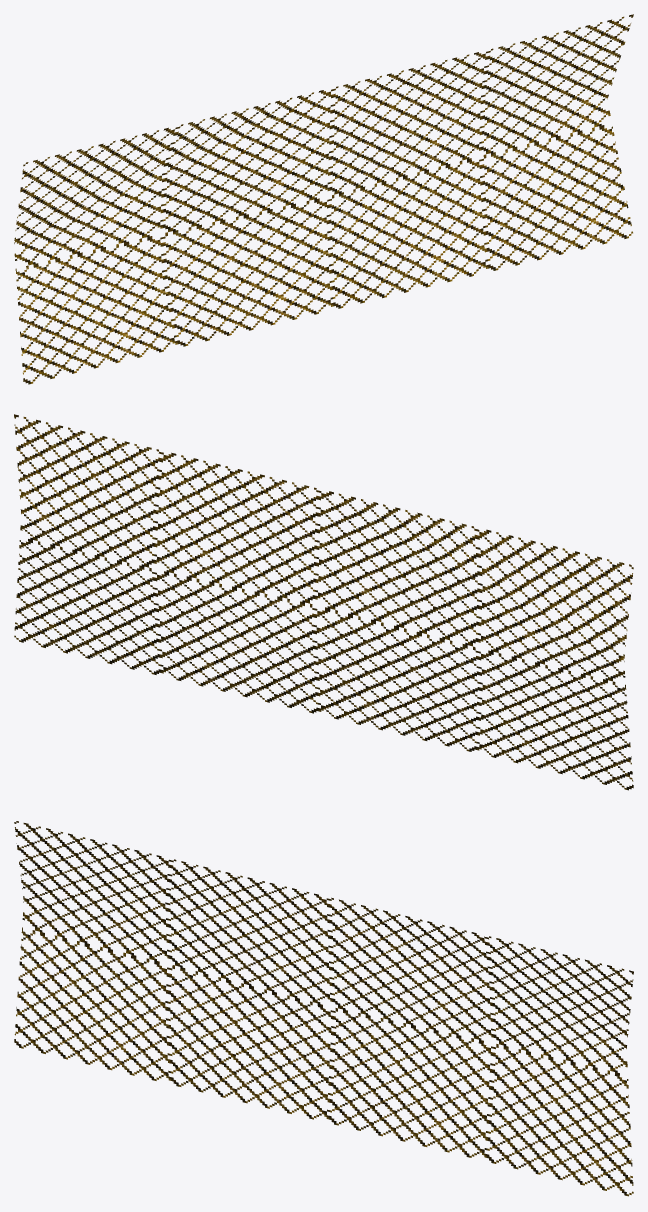
Rendered from W_A2r_xxxx_Verschoben_1835.glb.
3 renders of one model, top to bottom at view 1: azimuth 30°, elevation 25°; view 2: azimuth 150°, elevation 25°; view 3: azimuth 330°, elevation 25°, orthographic.
Visible parts, largest first — view 1: polySurfaceShape787; view 2: polySurfaceShape787; view 3: polySurfaceShape787.
Part boxes in pixels (box(x1,y1,x2,y2)): polySurfaceShape787: box(14, 14, 633, 384); polySurfaceShape787: box(14, 414, 633, 790); polySurfaceShape787: box(14, 821, 633, 1196).
Bounding box in the file's own units: 1 × 0.3486 × 0.0275.
Materials: 1 (1 with a texture image).
